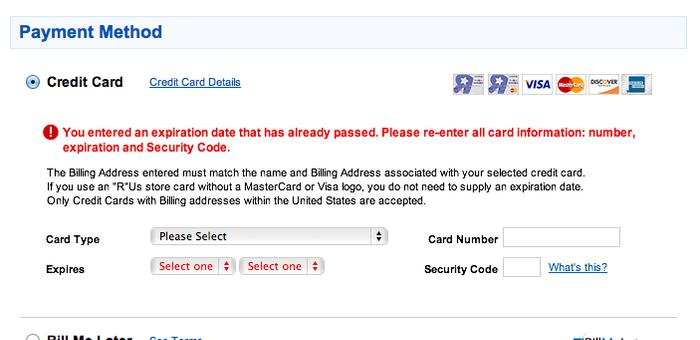error_message: (63, 125, 635, 156), (156, 260, 215, 272), (244, 260, 303, 272)
